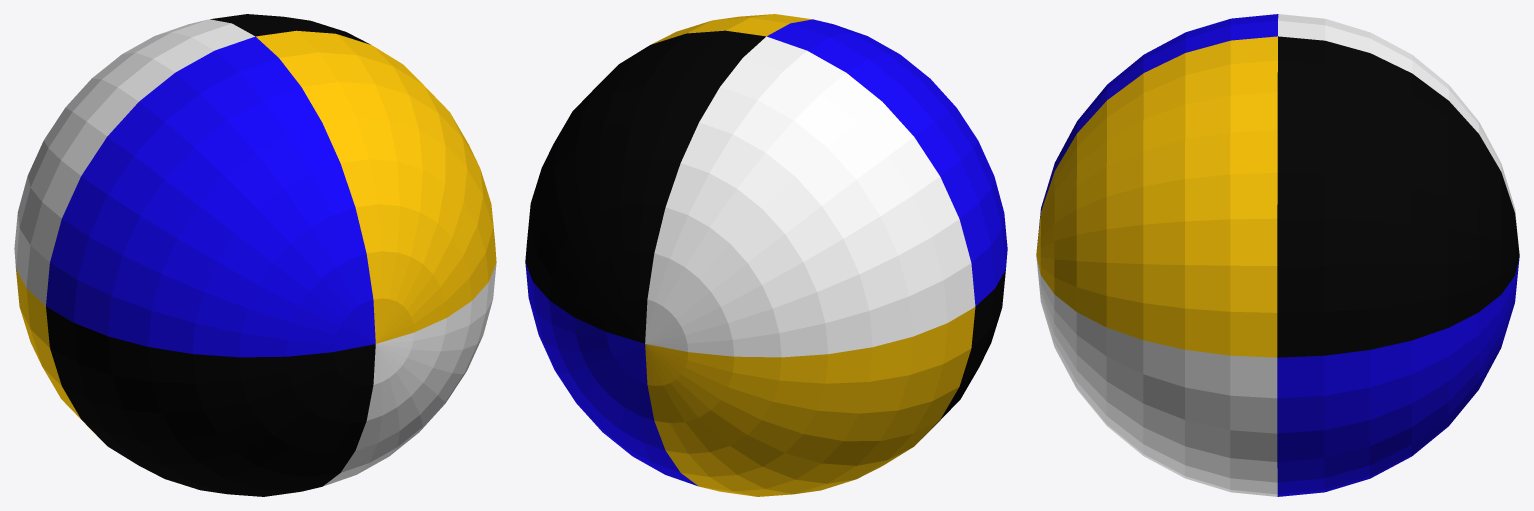
The model's file is Шар помошник анимация .dae.
3 views of the same model, side by side, from view 1: azimuth 30°, elevation 25°; view 2: azimuth 150°, elevation 25°; view 3: azimuth 270°, elevation 25° (orthographic).
Parts seen in each view (by area): view 1: Сфера; view 2: Сфера; view 3: Сфера.
Part boxes in pixels (left/top/right/bottom): Сфера: left=14, top=14, right=496, bottom=496; Сфера: left=525, top=14, right=1007, bottom=496; Сфера: left=1036, top=14, right=1519, bottom=496.
Size of the model in its own units: 0.2 by 0.2 by 0.2.
